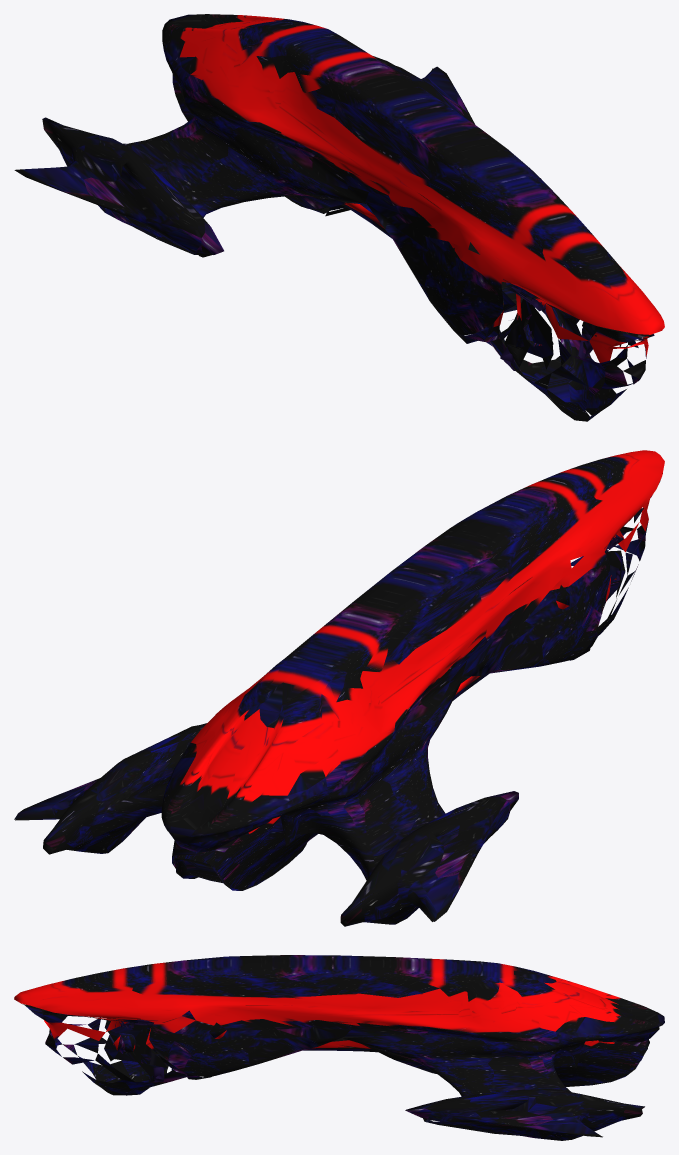
The model's file is ship.obj.
The picture shows the model from 3 angles, top to bottom: view 1: azimuth 30°, elevation 25°; view 2: azimuth 150°, elevation 25°; view 3: azimuth 270°, elevation 25°; orthographic projection. The views are drawn at different scales.
Bounding box in the file's own units: 254 × 111 × 497.
Materials: 1 (1 with a texture image).
